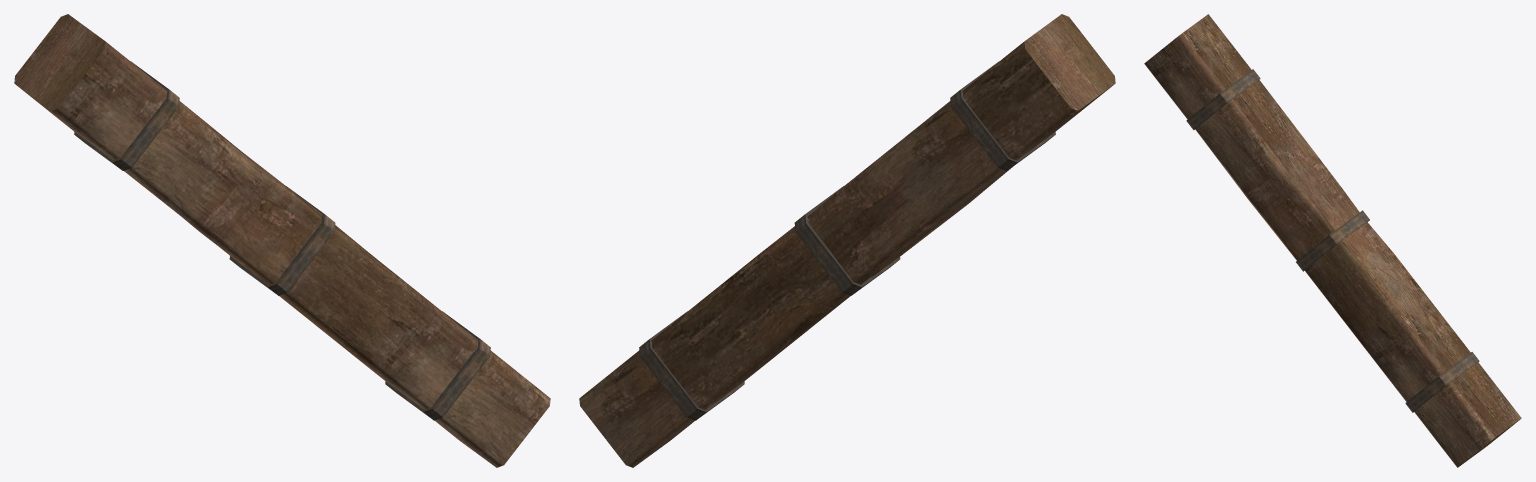
3 views of the same model, side by side, from view 1: azimuth 30°, elevation 25°; view 2: azimuth 150°, elevation 25°; view 3: azimuth 330°, elevation 25° (orthographic). The views are drawn at different scales.
Parts seen in each view (by area): view 1: SM_BB_T3_Extended_Beam_Thick_Large_Diagonal_LOD0; view 2: SM_BB_T3_Extended_Beam_Thick_Large_Diagonal_LOD0; view 3: SM_BB_T3_Extended_Beam_Thick_Large_Diagonal_LOD0.
Part boxes in pixels (x1=…): SM_BB_T3_Extended_Beam_Thick_Large_Diagonal_LOD0: x1=14, y1=14, x2=550, y2=467; SM_BB_T3_Extended_Beam_Thick_Large_Diagonal_LOD0: x1=579, y1=14, x2=1115, y2=467; SM_BB_T3_Extended_Beam_Thick_Large_Diagonal_LOD0: x1=1144, y1=14, x2=1521, y2=467.
Size of the model in its own units: 3.4 by 3.4 by 0.5477.
Materials: 2 (2 with a texture image).
